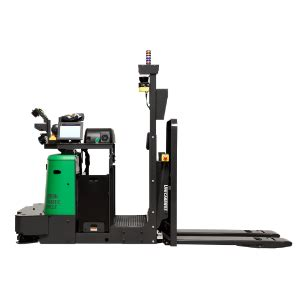Pallet Jack: (14, 63, 294, 249)
